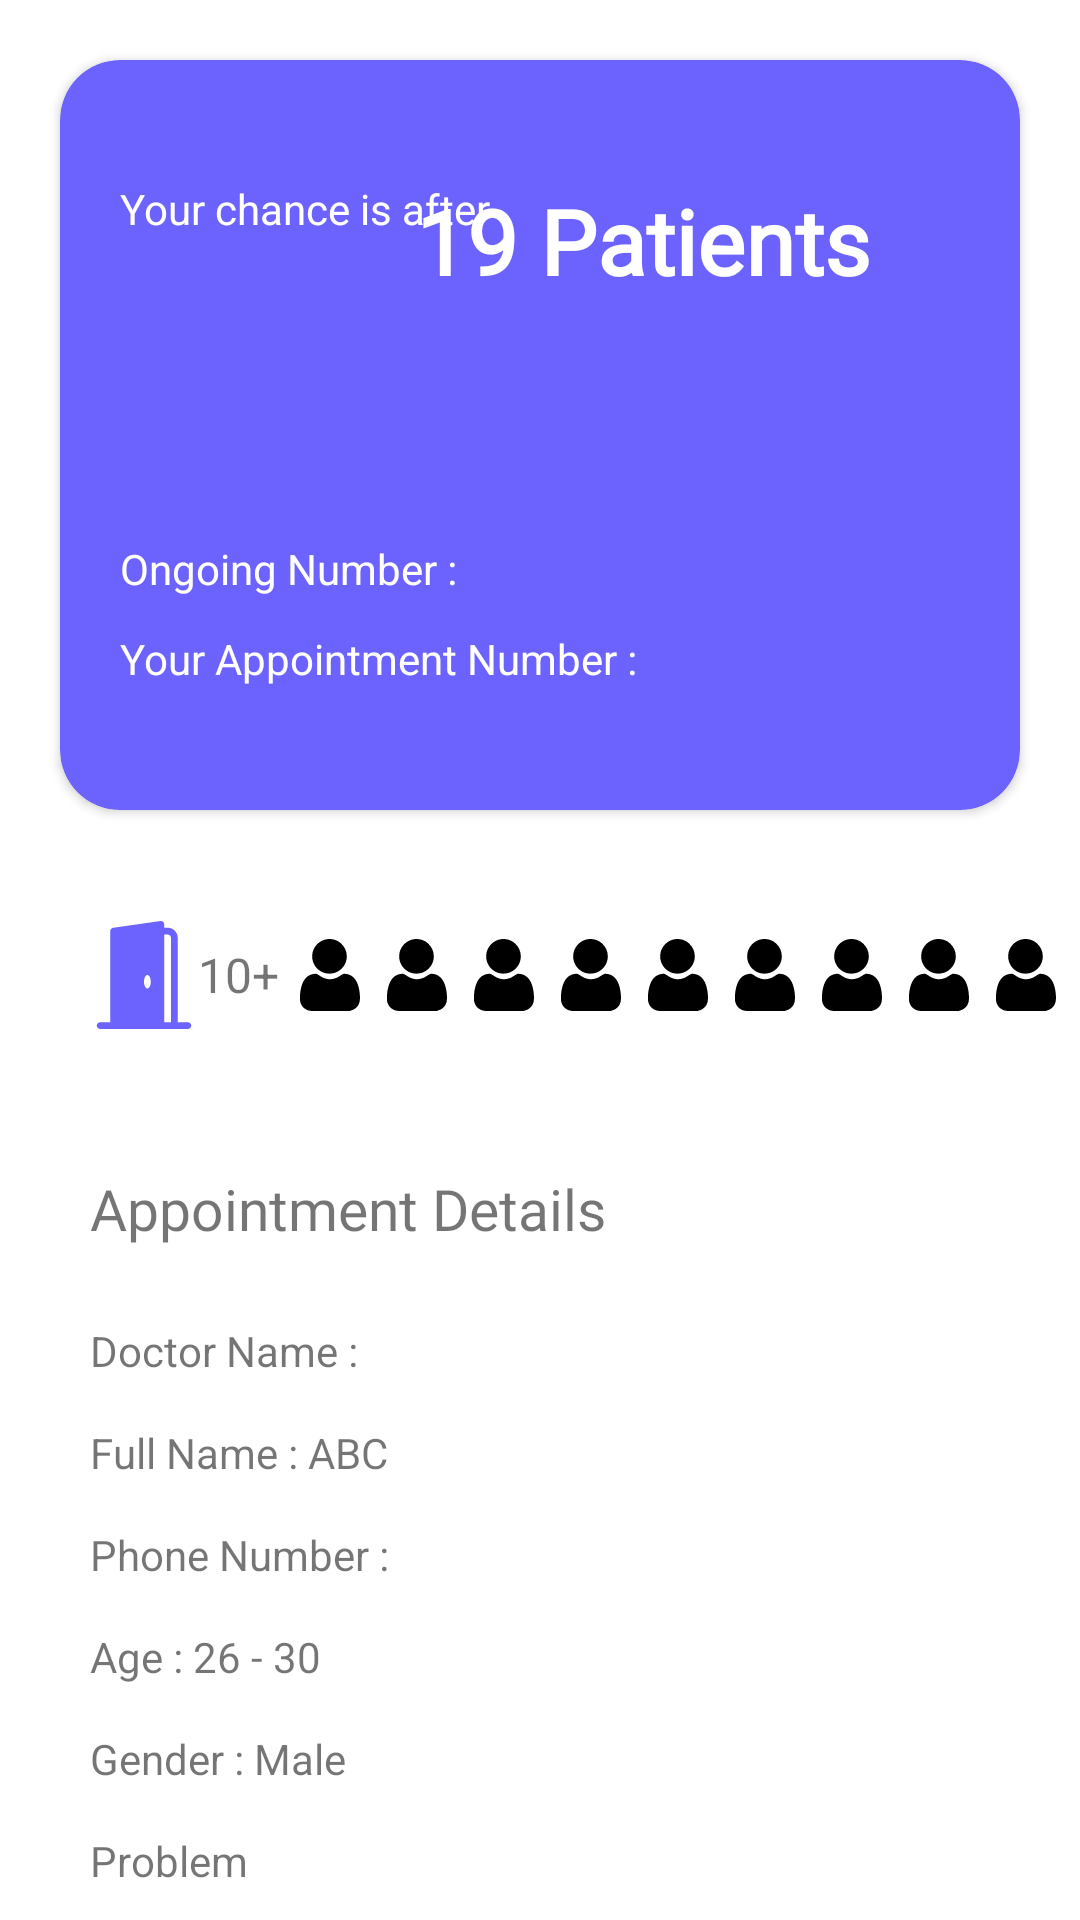

Icon click points for this 1080x1920 phone screenshot, format [x,y]:
bi door open: [144,975]
